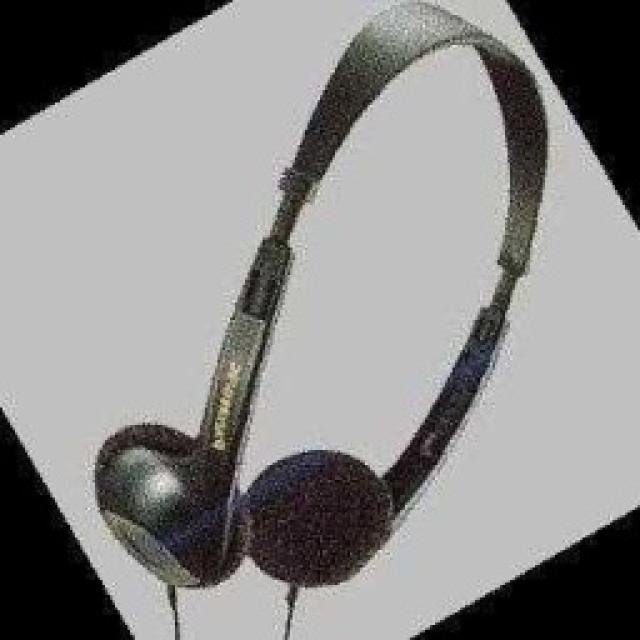kulaklik: (50, 2, 555, 640)
